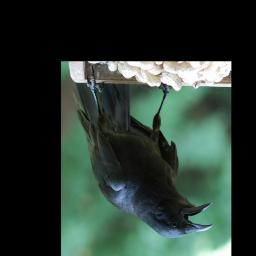Crow: (72, 65, 214, 239)
